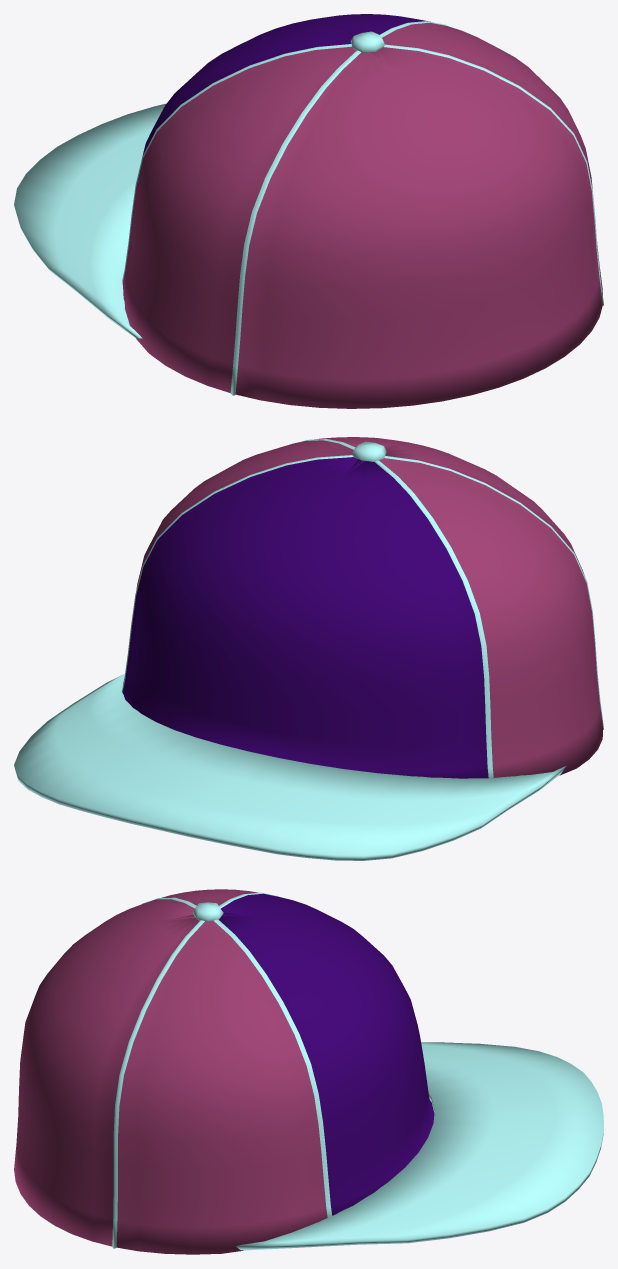
The model's file is Hat.glb.
The picture shows the model from 3 angles, top to bottom: view 1: azimuth 30°, elevation 25°; view 2: azimuth 150°, elevation 25°; view 3: azimuth 270°, elevation 25°; orthographic projection. The views are drawn at different scales.
Visible parts, largest first — view 1: Hat; view 2: Hat; view 3: Hat.
Part boxes in pixels (box(x1,y1,x2,y2)): Hat: box(14, 14, 603, 408); Hat: box(14, 437, 603, 860); Hat: box(14, 889, 603, 1254).
Size of the model in its own units: 1.07 by 0.6695 by 1.35.
